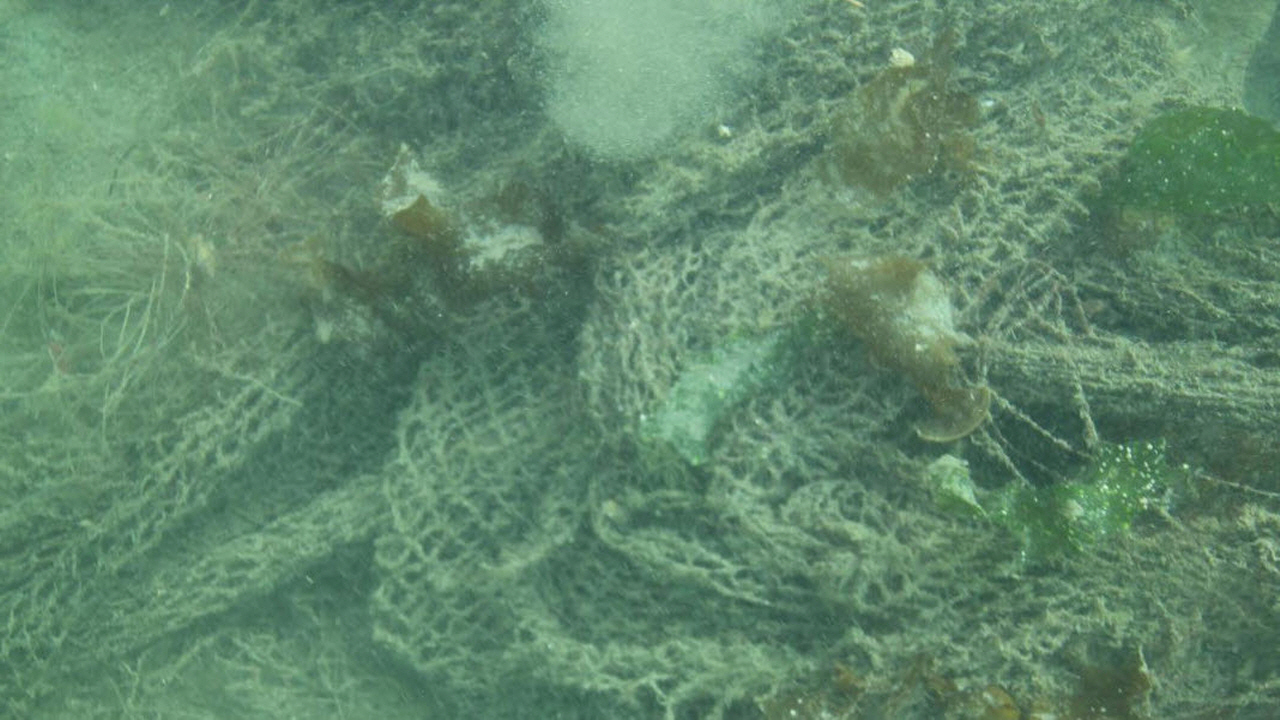fish net: (0, 0, 1280, 720)
